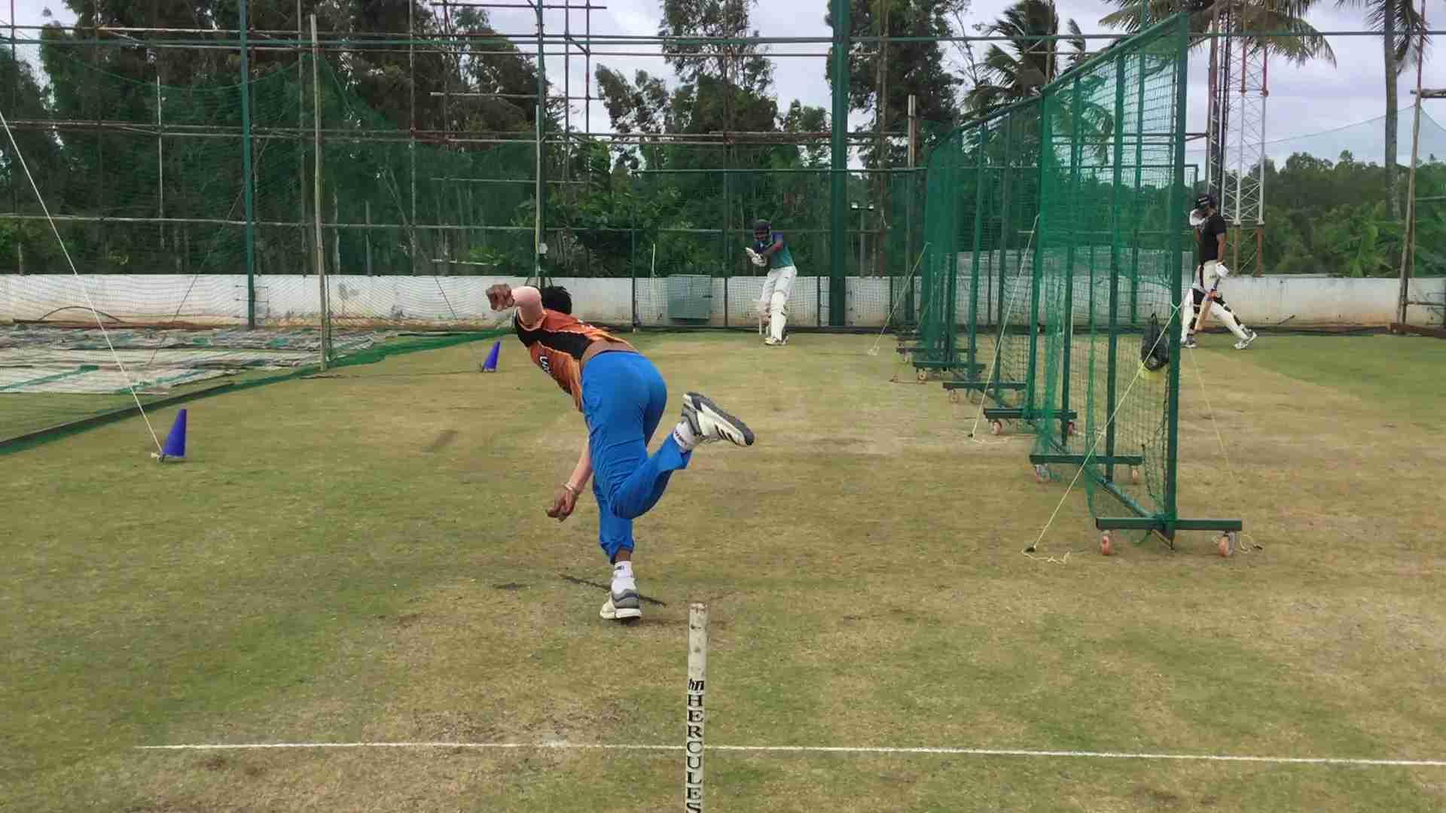batsman: (745, 213, 805, 348)
